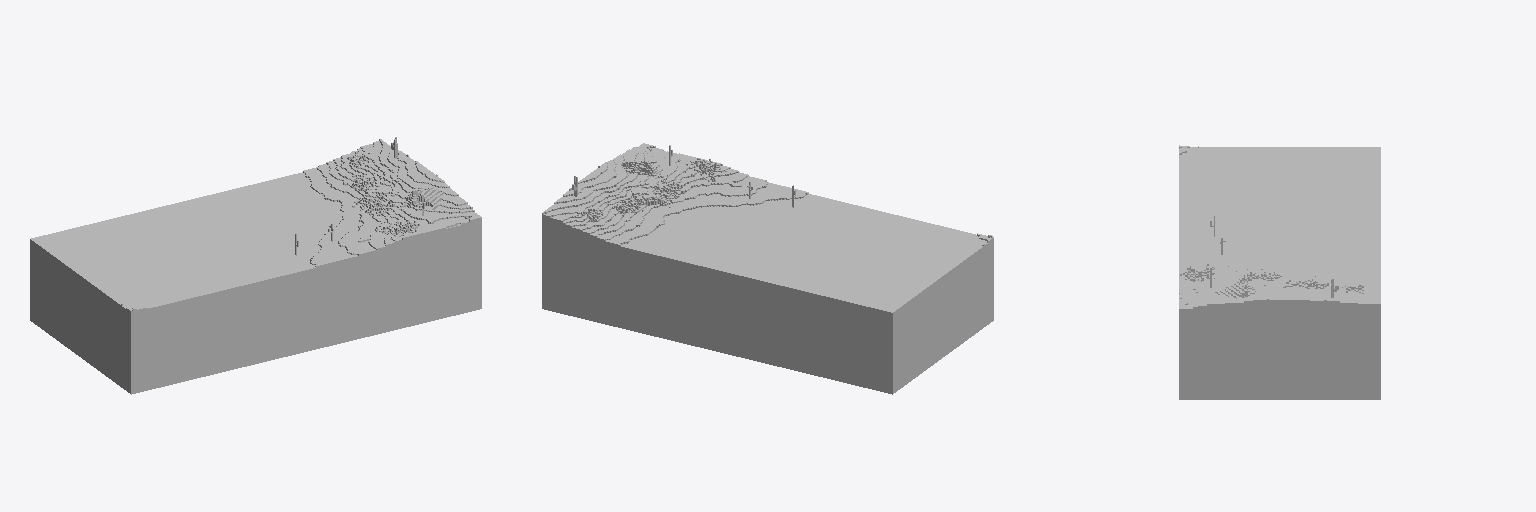
The model's file is Sunkeny City -  Voxel Desert-5-tile 6.obj.
3 renders of one model, left to right at view 1: azimuth 30°, elevation 25°; view 2: azimuth 150°, elevation 25°; view 3: azimuth 270°, elevation 25°, orthographic.
Parts seen in each view (by area): view 1: tile 6; view 2: tile 6; view 3: tile 6.
Boxes of the visible parts, box(x1,y1,x2,y2) form: tile 6: box(30, 137, 481, 394); tile 6: box(542, 143, 993, 394); tile 6: box(1179, 145, 1380, 399).
Bounding box in the file's own units: 25.6 × 8.2 × 12.8.